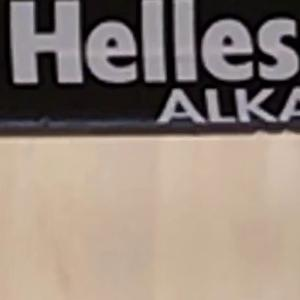keyword: (147, 79, 271, 134)
